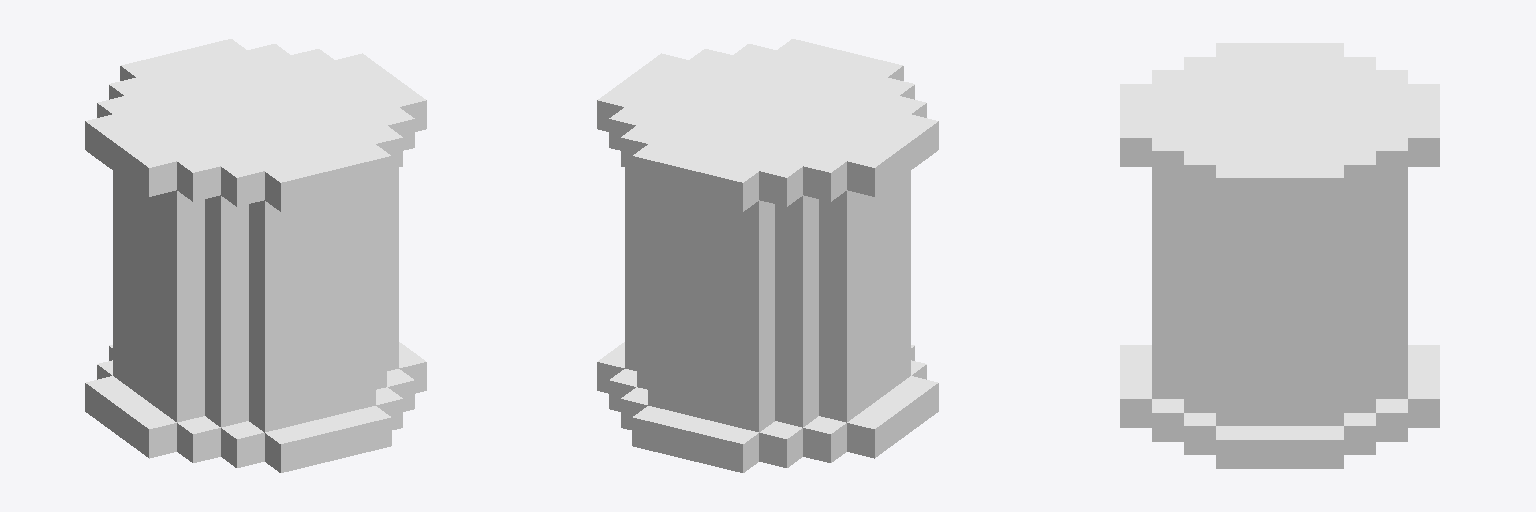
Rendered from example_model_2.obj.
3 views of the same model, side by side, from view 1: azimuth 30°, elevation 25°; view 2: azimuth 150°, elevation 25°; view 3: azimuth 270°, elevation 25° (orthographic).
Parts seen in each view (by area): view 1: object 1; view 2: object 1; view 3: object 1.
Boxes of the visible parts, x1,y1,x2,y2 form: object 1: [85, 39, 426, 472]; object 1: [597, 39, 938, 472]; object 1: [1120, 43, 1439, 468].
Size of the model in its own units: 1 by 1 by 1.